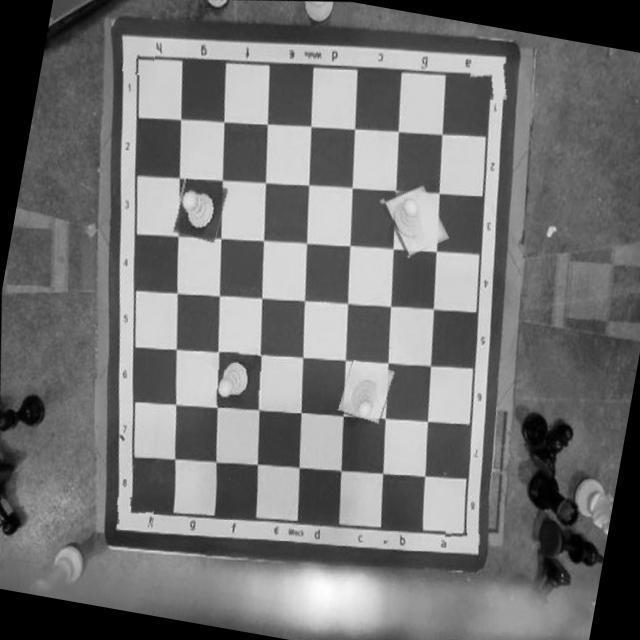chess-table-corners: (464, 57, 512, 102), (112, 492, 156, 528), (121, 40, 156, 75), (442, 516, 482, 546)
